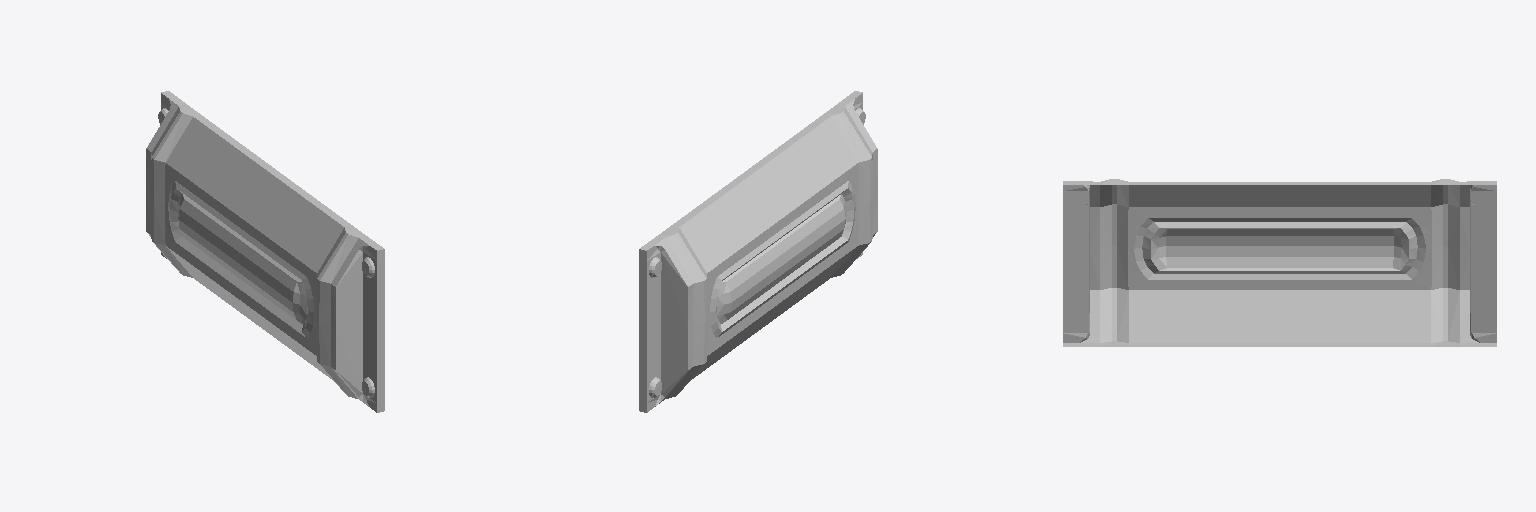
The model's file is lightWall.obj.
3 renders of one model, left to right at view 1: azimuth 30°, elevation 25°; view 2: azimuth 150°, elevation 25°; view 3: azimuth 270°, elevation 25°, orthographic.
Parts seen in each view (by area): view 1: wall_light; view 2: wall_light; view 3: wall_light.
Boxes of the visible parts, <box> form: wall_light: <box>146,91,384,412</box>; wall_light: <box>639,91,877,412</box>; wall_light: <box>1063,179,1496,346</box>.
Size of the model in its own units: 0.1347 by 0.5008 by 1.21.